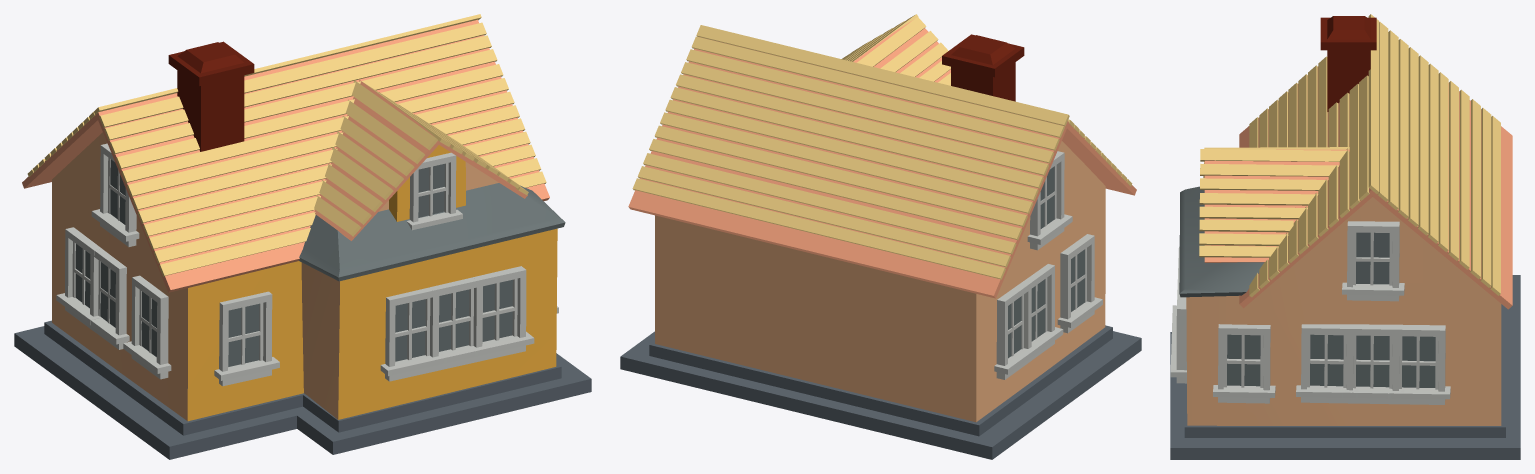
Rendered from low_poly_home_1.glb.
The picture shows the model from 3 angles, left to right: view 1: azimuth 30°, elevation 25°; view 2: azimuth 150°, elevation 25°; view 3: azimuth 270°, elevation 25°; orthographic projection. The views are drawn at different scales.
Visible parts, largest first — view 1: Object_2; view 2: Object_2; view 3: Object_2.
Boxes of the visible parts, <box> form: Object_2: <box>14,14,591,459</box>; Object_2: <box>620,14,1141,459</box>; Object_2: <box>1170,14,1520,459</box>.
Size of the model in its own units: 1.37 by 1.15 by 1.17.
Materials: 1 (1 with a texture image).
